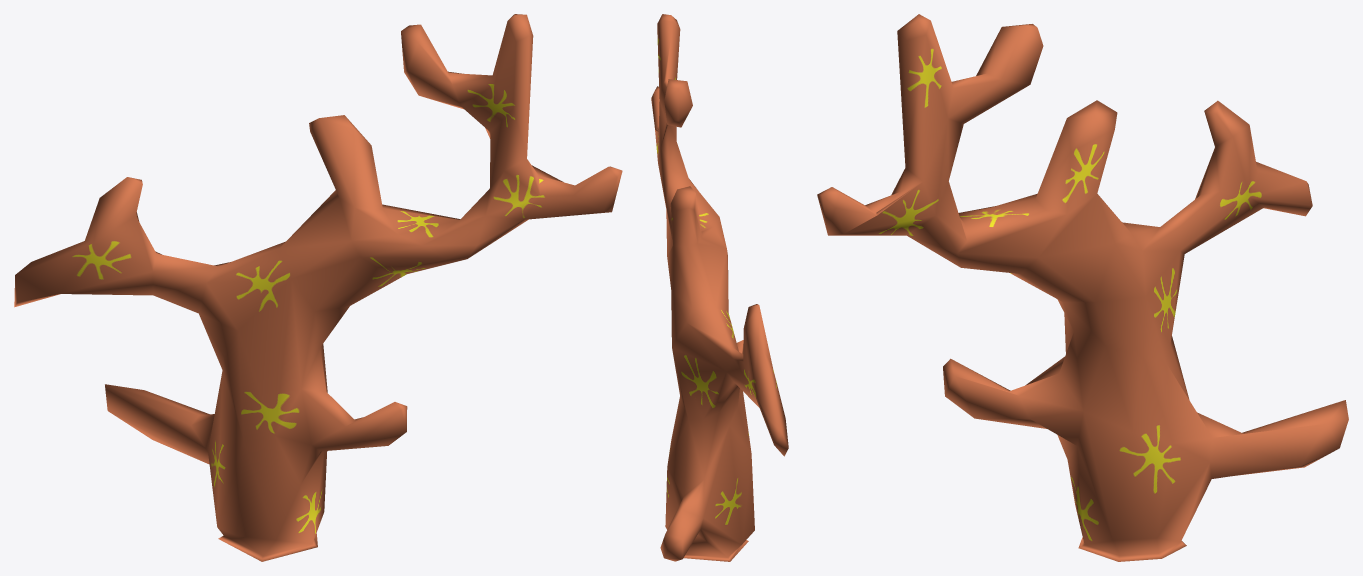
The model's file is object_4.008_lev3.glb.
3 renders of one model, left to right at view 1: azimuth 30°, elevation 25°; view 2: azimuth 150°, elevation 25°; view 3: azimuth 270°, elevation 25°, orthographic. The views are drawn at different scales.
Parts seen in each view (by area): view 1: object_4.008_lev3; view 2: object_4.008_lev3; view 3: object_4.008_lev3.
Part boxes in pixels (box(x1,y1,x2,y2)): object_4.008_lev3: box(14, 14, 622, 561); object_4.008_lev3: box(651, 14, 788, 561); object_4.008_lev3: box(817, 14, 1348, 561).
Size of the model in its own units: 3.29 by 4.55 by 3.63.
Materials: 1 (1 with a texture image).
